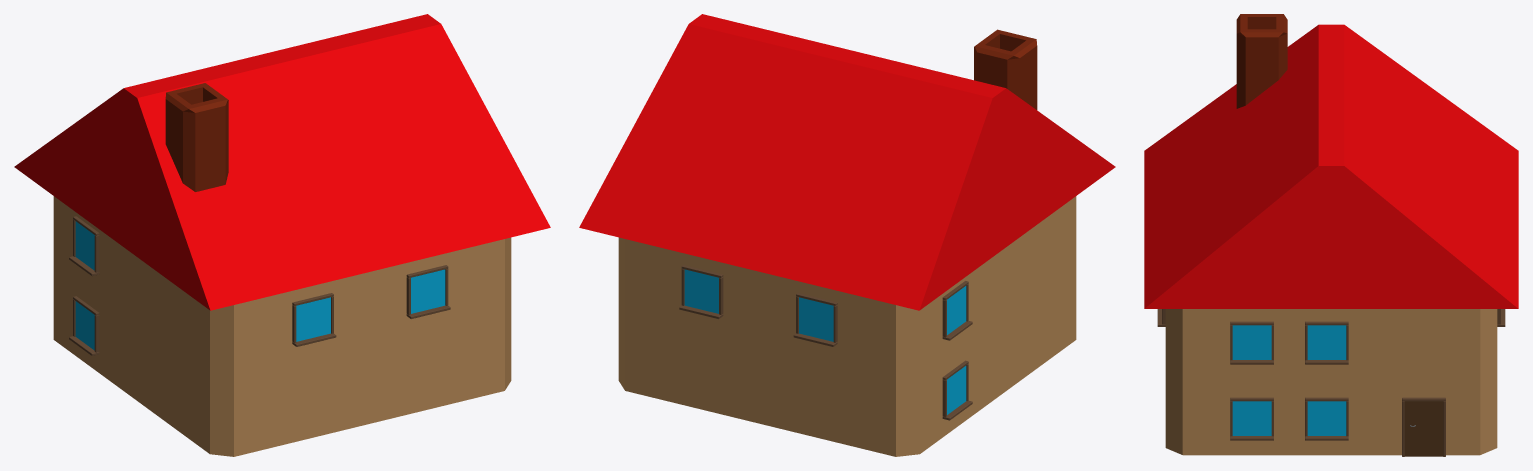
Rendered from Haus_Standart.fbx.
3 renders of one model, left to right at view 1: azimuth 30°, elevation 25°; view 2: azimuth 150°, elevation 25°; view 3: azimuth 270°, elevation 25°, orthographic. The views are drawn at different scales.
Visible parts, largest first — view 1: Haus/Standart; view 2: Haus/Standart; view 3: Haus/Standart.
Part boxes in pixels (left/top/right/bottom): Haus/Standart: left=14, top=14, right=550, bottom=456; Haus/Standart: left=579, top=14, right=1115, bottom=456; Haus/Standart: left=1144, top=14, right=1518, bottom=456.
Size of the model in its own units: 892 by 806 by 892.
